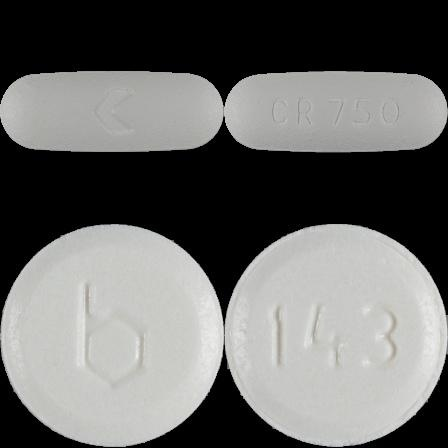54868-5023: (0, 0, 224, 224)
